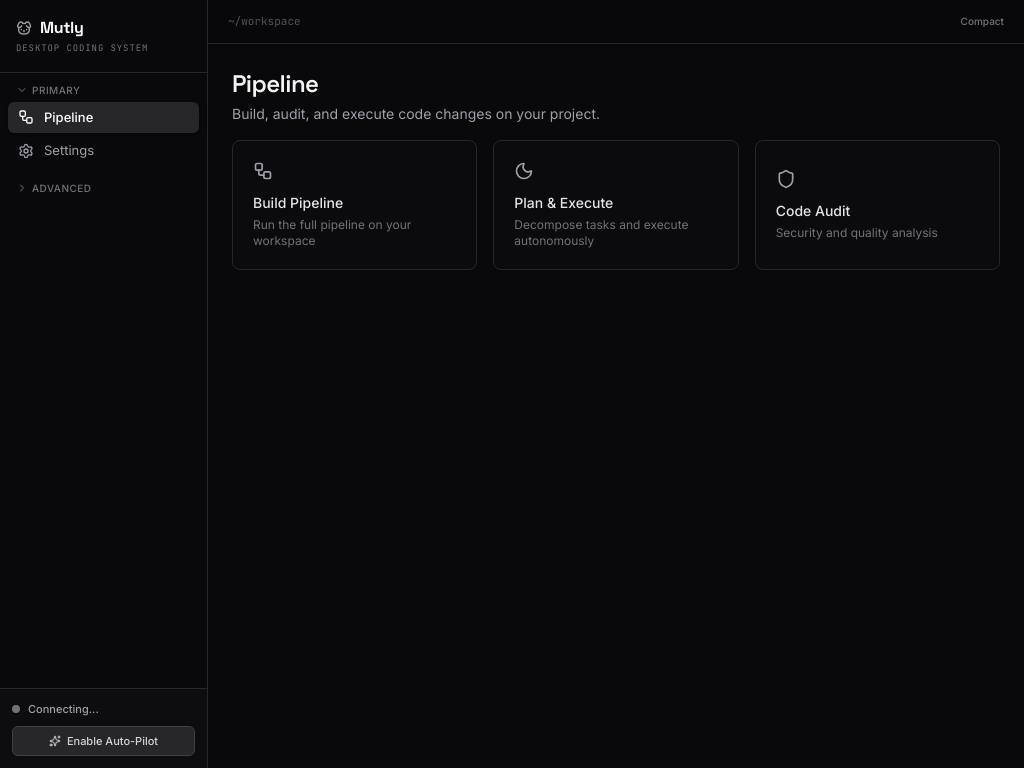
Test: Frontend Integration Tests › navigates through sidebar tabs
The image size is (1024, 768).
expect the text "~/workspace" is shown: met, box [228, 13, 301, 30]
Click the button "Advanced" at (104, 188), box [8, 178, 199, 198]
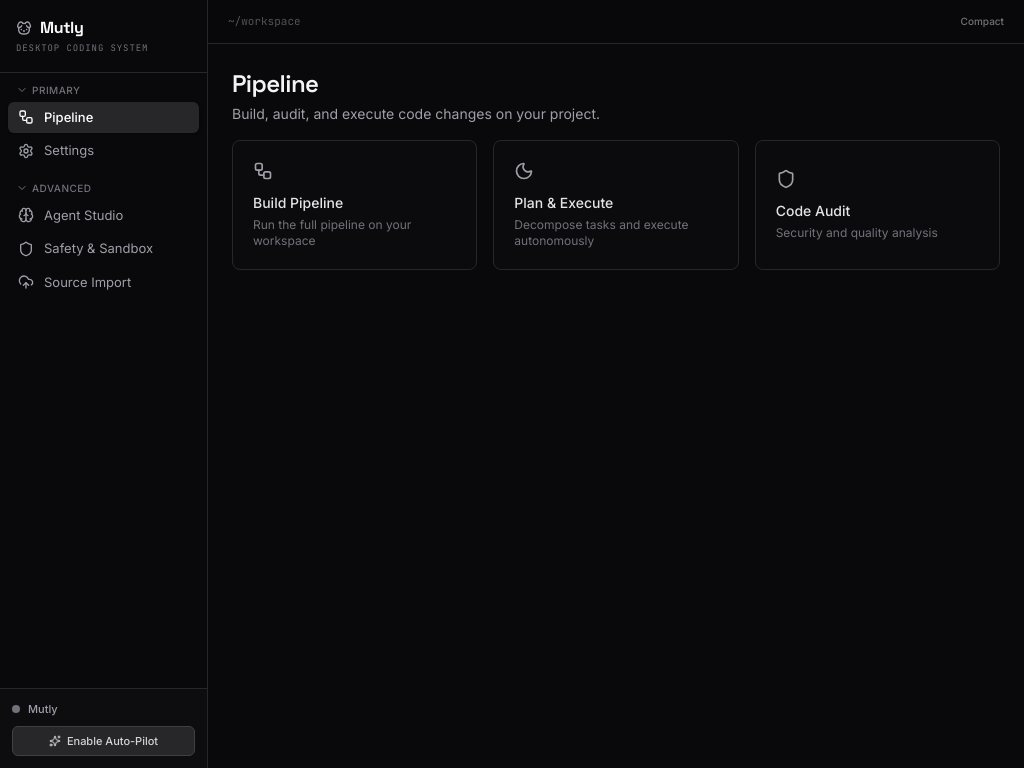
expect the button "Source Import" is shown: met, box [8, 266, 199, 298]
